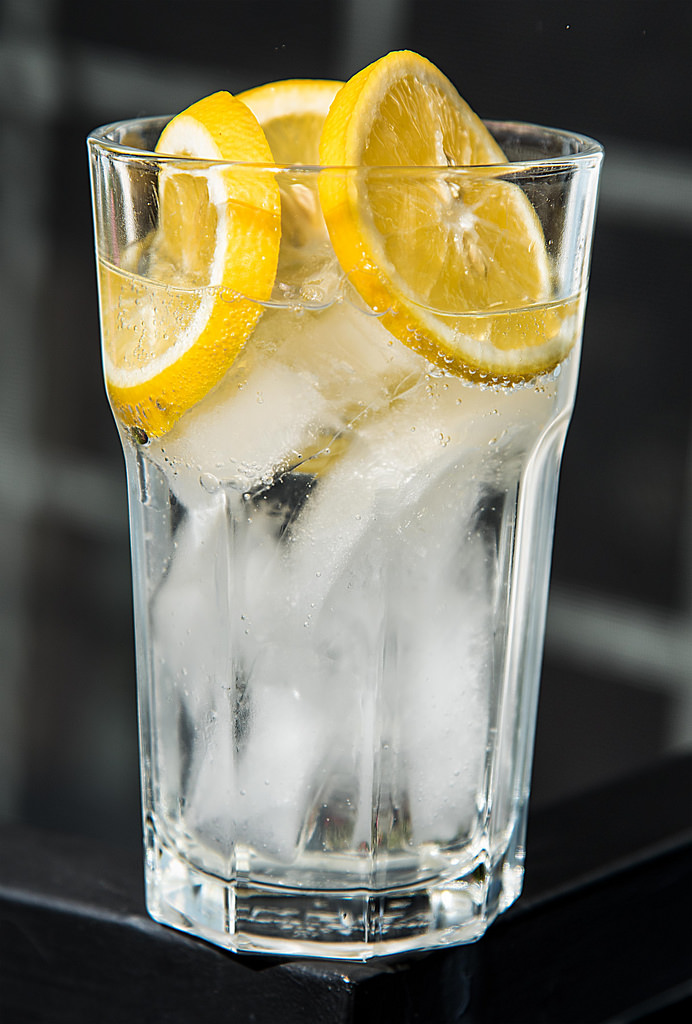glass of water: (128, 426, 528, 963)
